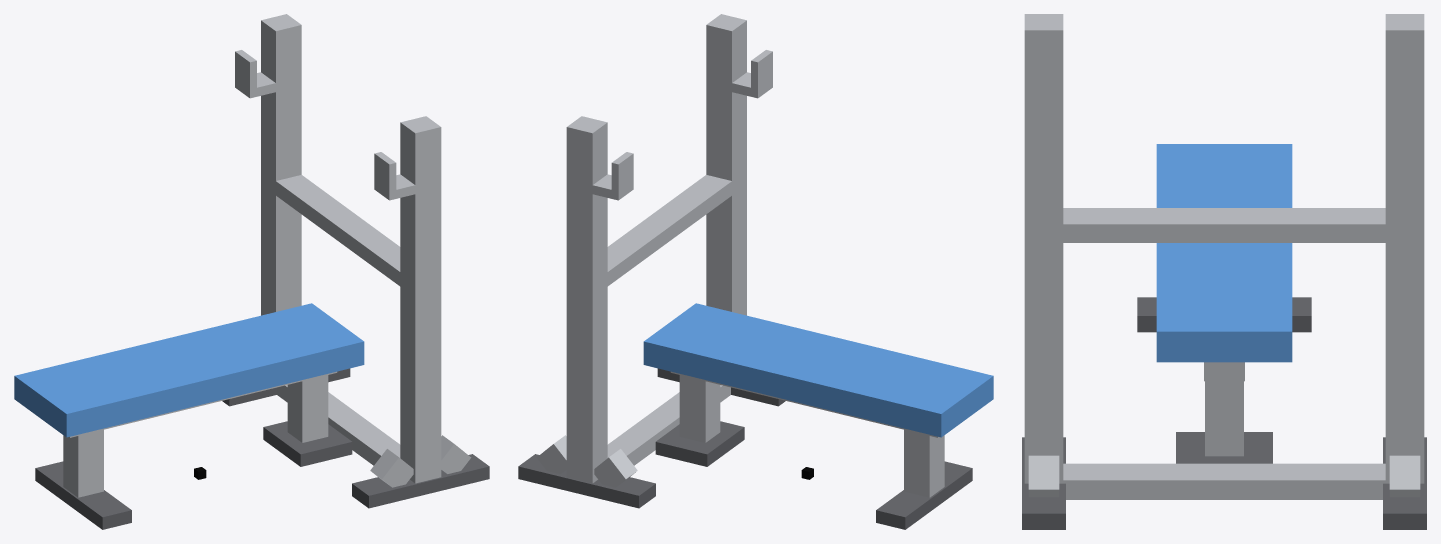
The model's file is Iron_Bench.fbx.
3 renders of one model, left to right at view 1: azimuth 30°, elevation 25°; view 2: azimuth 150°, elevation 25°; view 3: azimuth 270°, elevation 25°, orthographic. The views are drawn at different scales.
Parts seen in each view (by area): view 1: Iron_Frame, Iron_Pad, Iron_Feet; view 2: Iron_Frame, Iron_Pad, Iron_Feet; view 3: Iron_Frame, Iron_Pad, Iron_Feet.
Part boxes in pixels (box(x1,y1,x2,y2)): Iron_Frame: box(63, 14, 471, 497); Iron_Pad: box(14, 303, 364, 437); Iron_Feet: box(35, 368, 489, 529); Iron_Frame: box(536, 14, 944, 497); Iron_Pad: box(643, 303, 993, 437); Iron_Feet: box(518, 368, 972, 529); Iron_Frame: box(1024, 14, 1424, 499); Iron_Pad: box(1156, 144, 1292, 362); Iron_Feet: box(1022, 297, 1426, 529).
Bounding box in the file's own units: 4.82 × 4.55 × 3.52.
